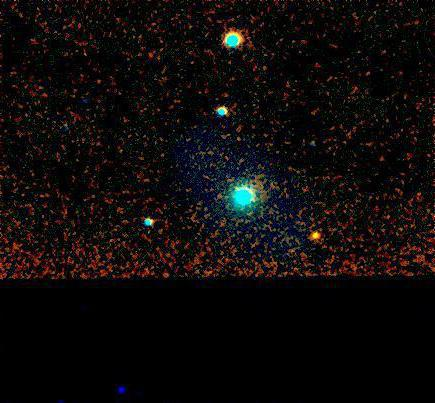star: (301, 223, 331, 253)
